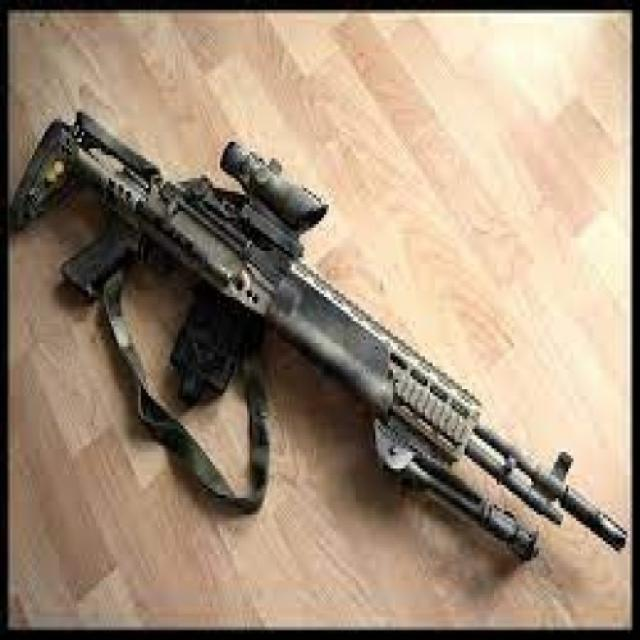Gun: (0, 72, 634, 586)
